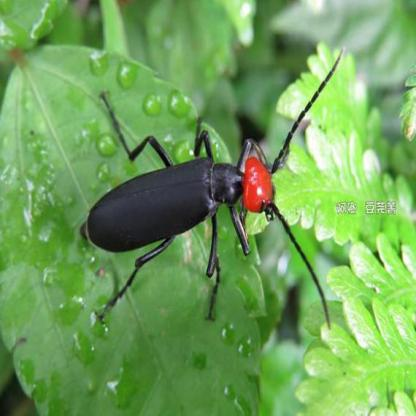beetle: (90, 85, 316, 309)
